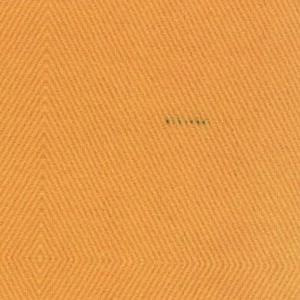stain: (160, 113, 217, 132)
